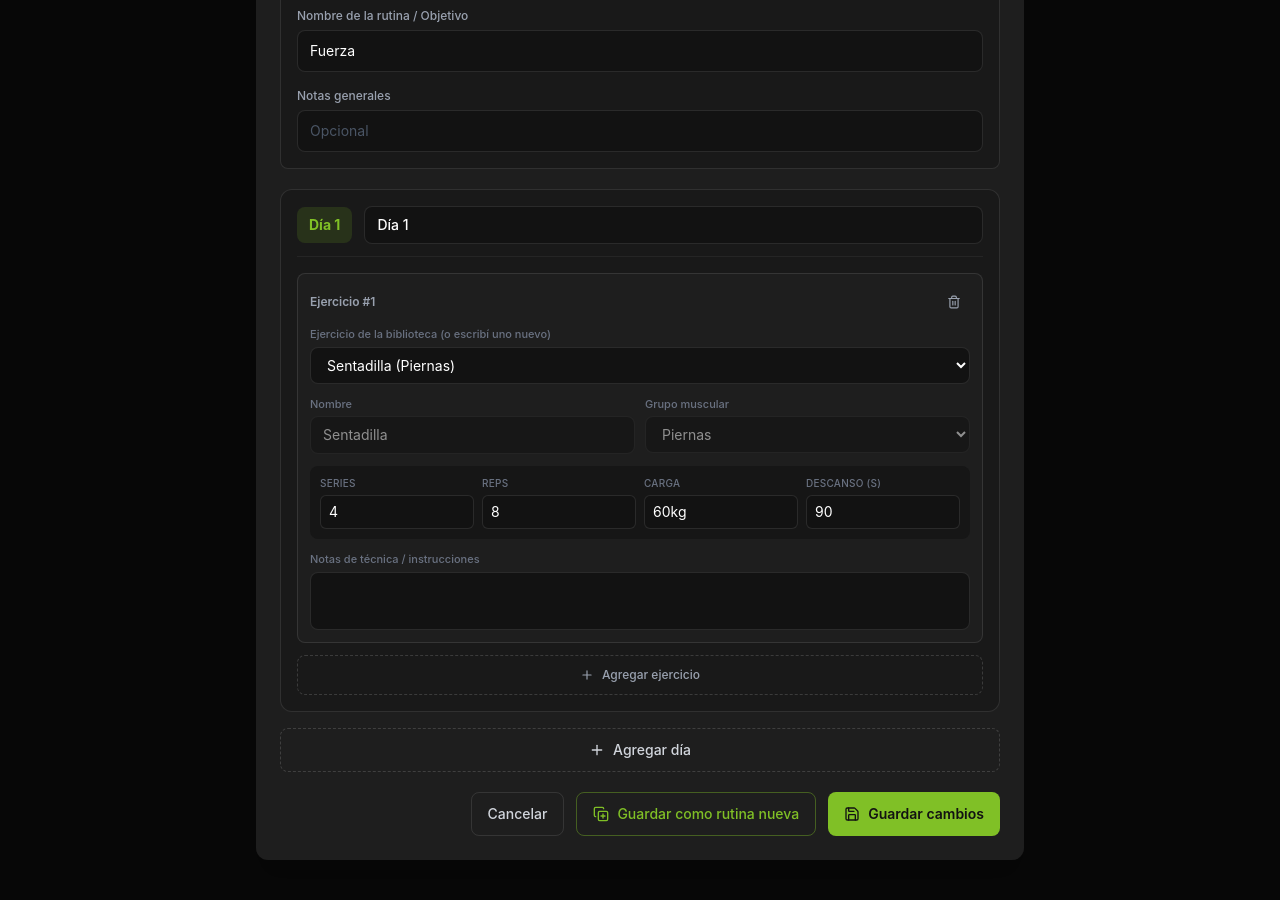
Test: RutinaEditorModal -- guardar sin perder el historial › cualquier otro error se muestra sin ofrecer "Guardar como rutina nueva" en el aviso
(page scrolled)
Step 1. Click the button "Guardar cambios" → {"x": 914, "y": 814}, box [828,792,1000,836]
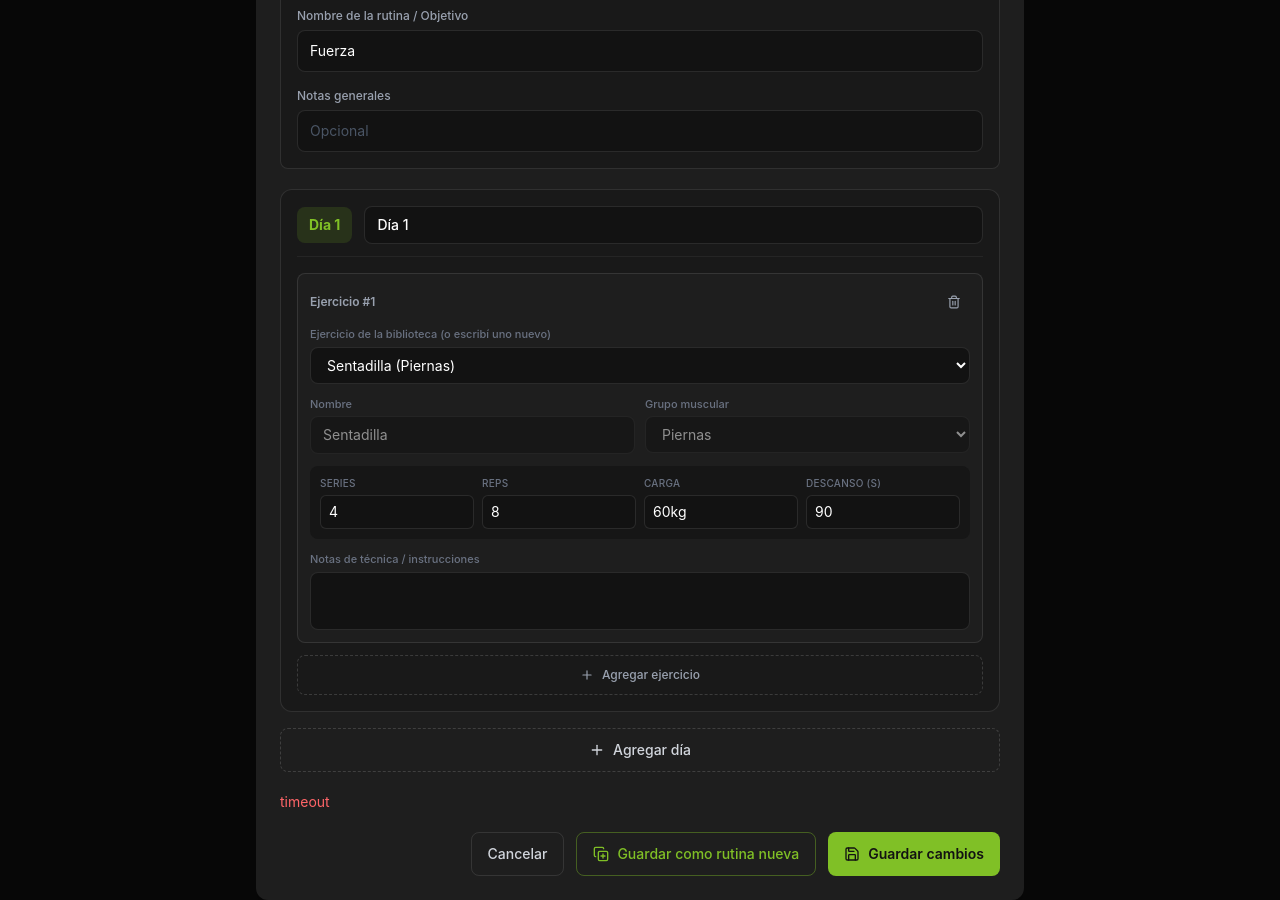
Now the text "timeout" is shown, box [280,792,330,810]
